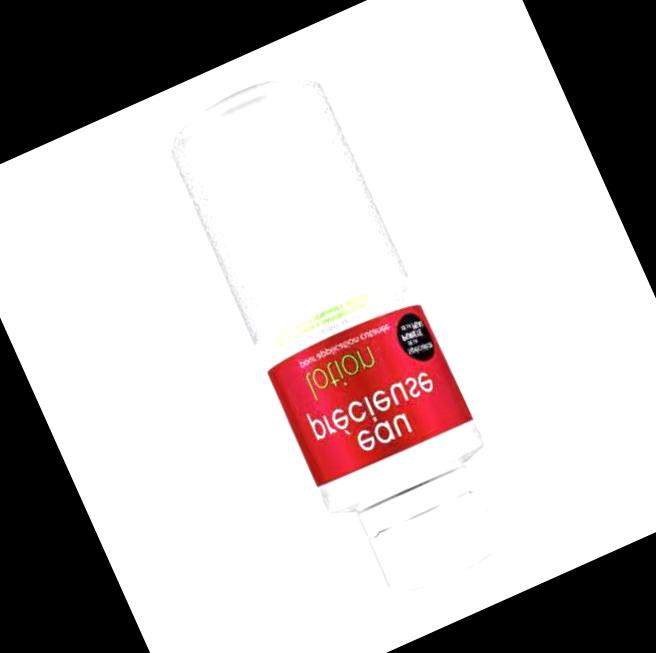cosmetic: (164, 79, 527, 610)
